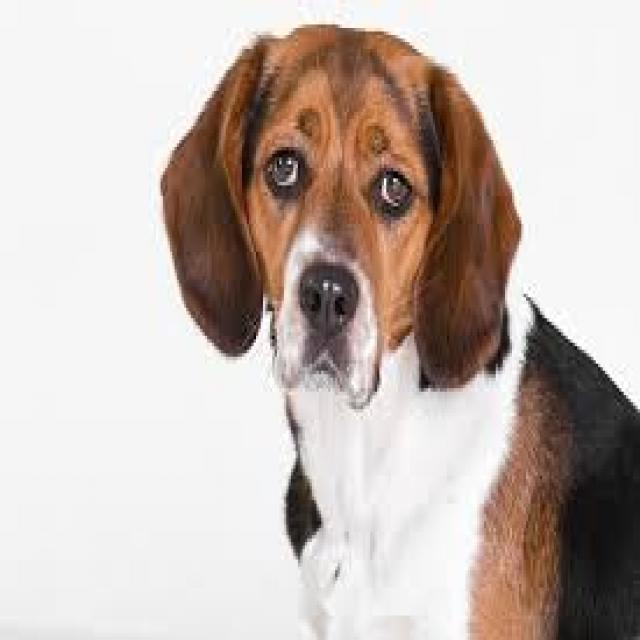Dog: (157, 16, 640, 640)
